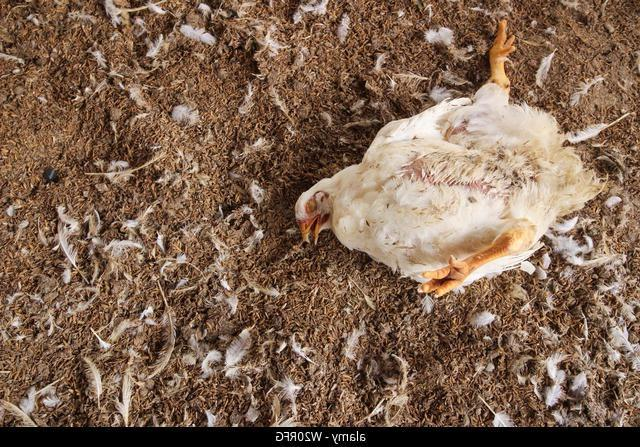AbNormal: (287, 25, 611, 302)
